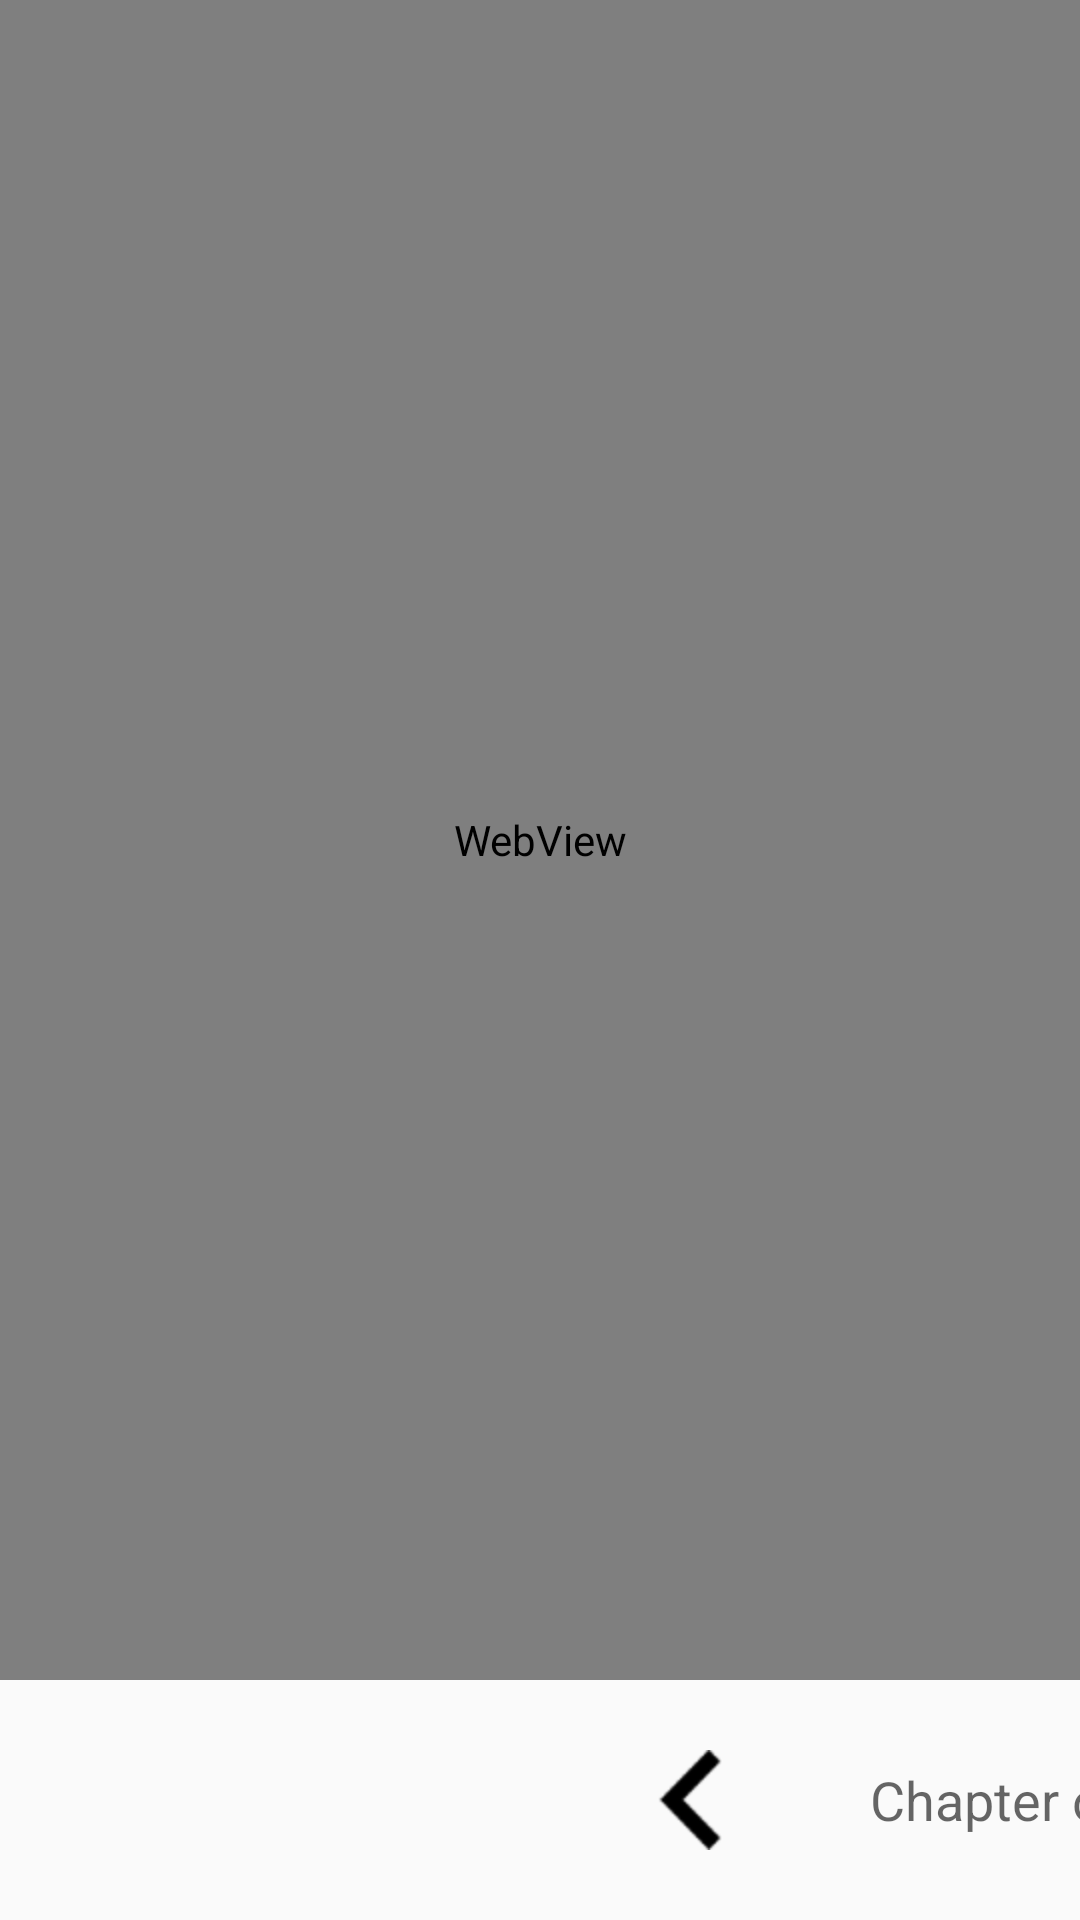

Point at icon controls on the screen. Image size 1080 × 1920, points as (x=x, y=y).
button previous page: (x=690, y=1800)
